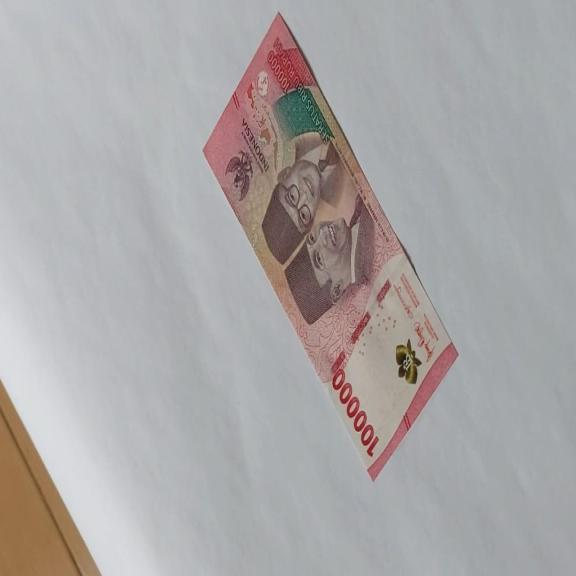Kertas: (202, 10, 459, 482), (332, 367, 380, 458)
